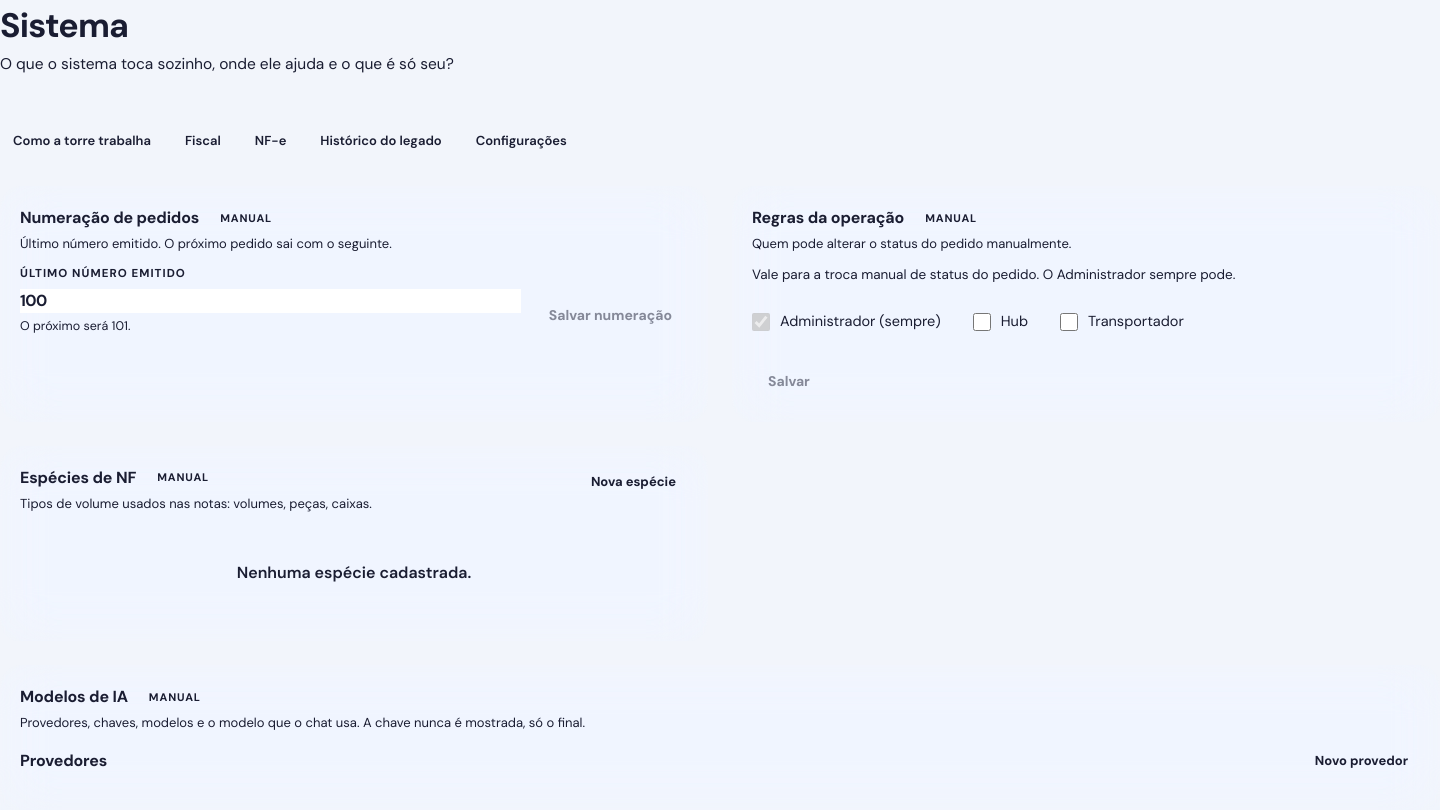
Test case: Sistema: configurar dentro da V2 › cria uma espécie de NF: valida o nome e envia o corpo
The image size is (1440, 810).
Later steps or results of the test are not shown.
Click the button "Nova espécie".
click(633, 482)  # box 579,466 -> 688,498
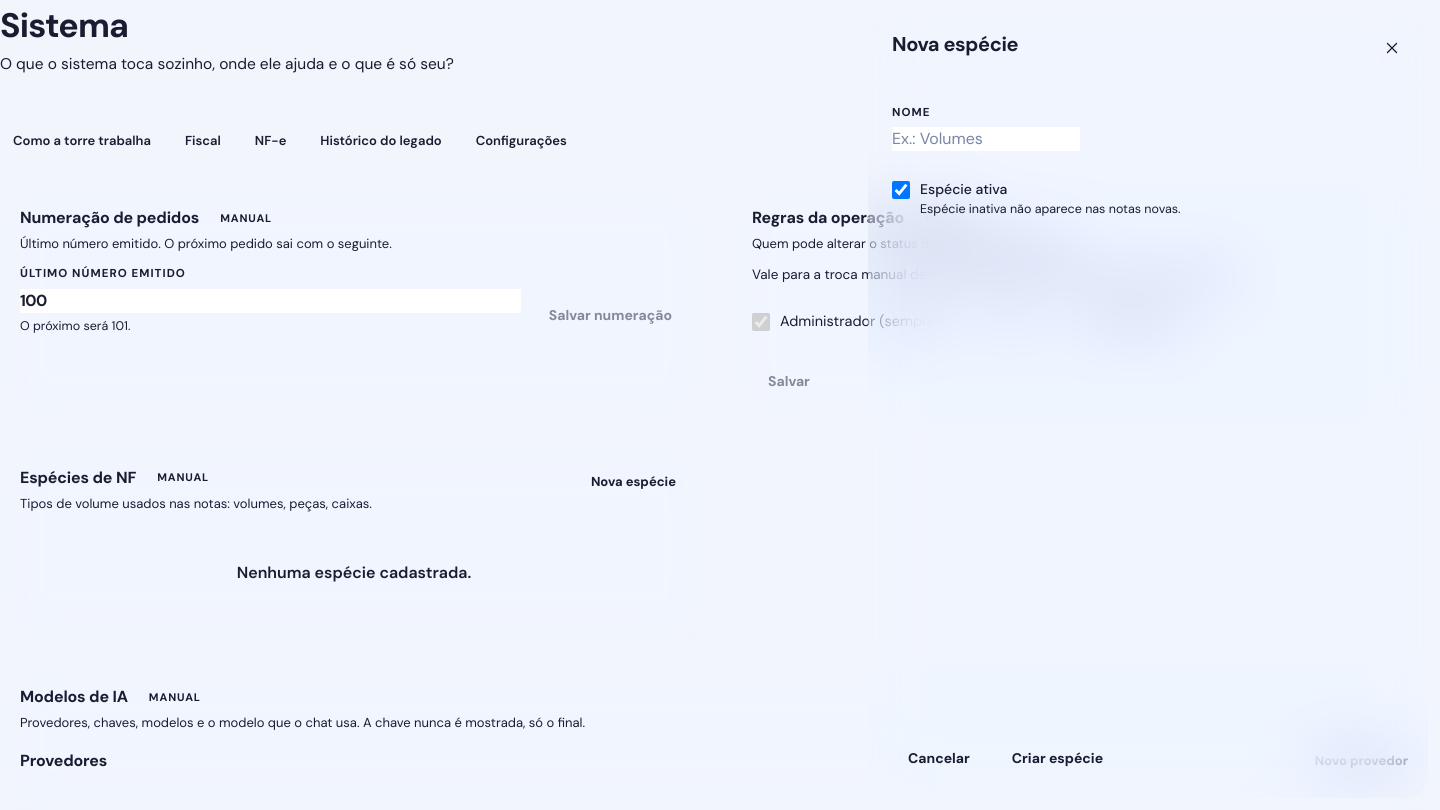
Click the button "Criar espécie".
click(1058, 758)  # box 996,738 -> 1119,778
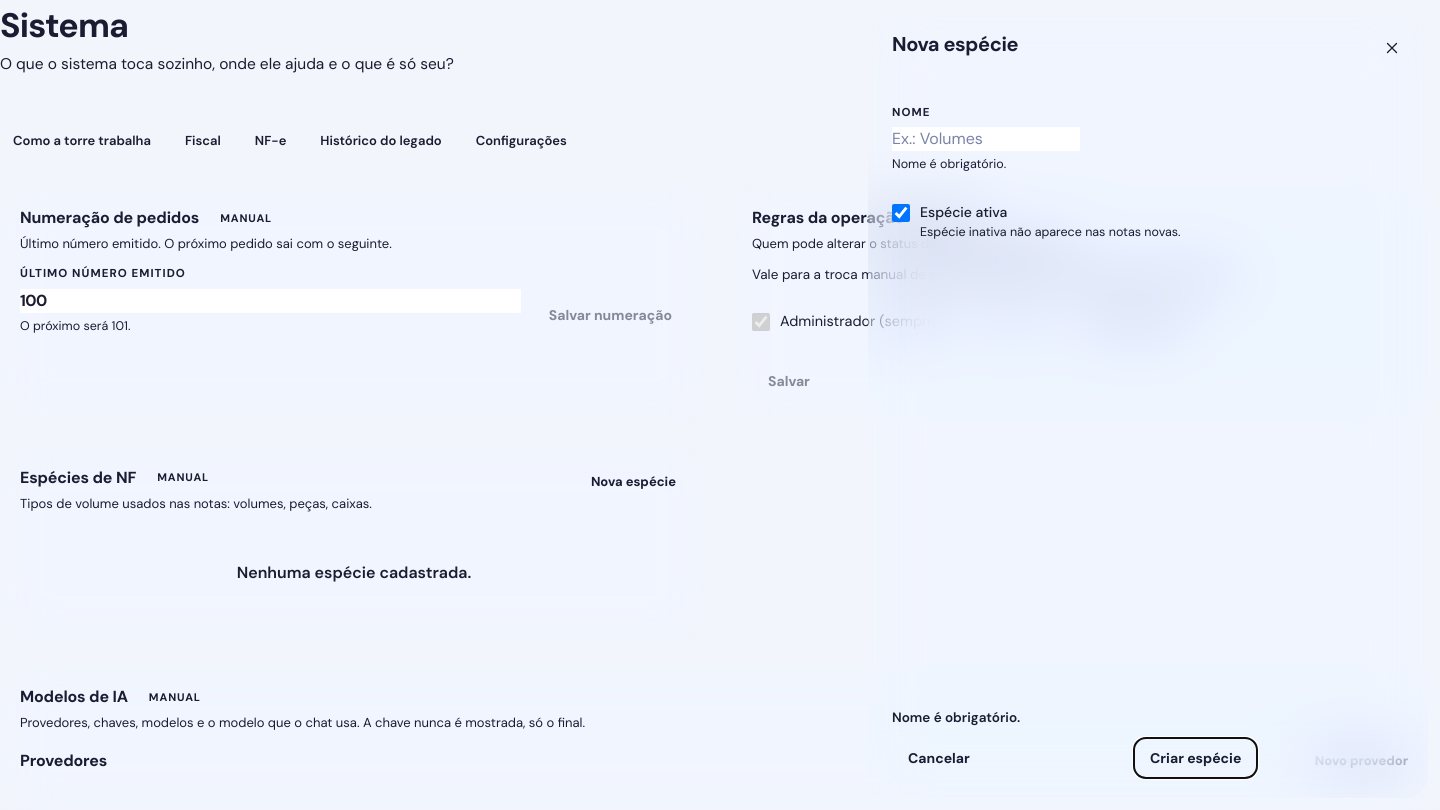
Now the text "Nome é obrigatório." is shown, box 892,156 -> 1006,172
